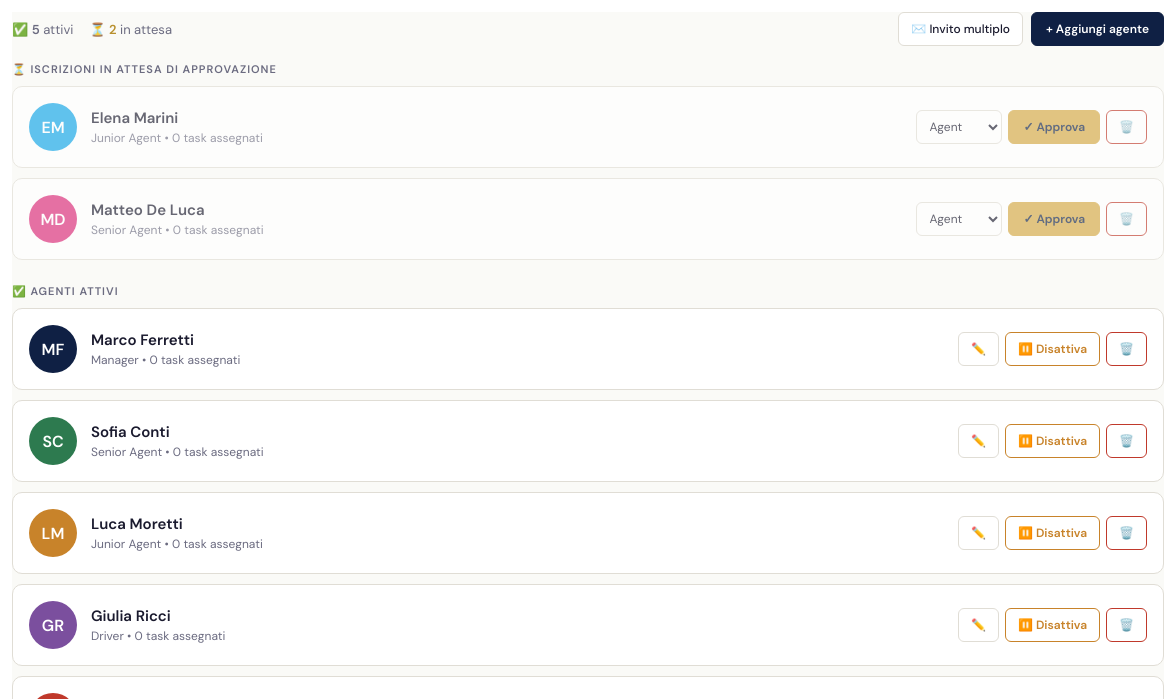
A-4 · AdminTeamTab — la revoca dei privilegi non si chiude alla cieca › cambio di ruolo rifiutato: l'editor resta aperto e lo DICE
This screenshot has width=1176, height=699.
Click the button titled "Modifica" in the row of "Marco Ferretti".
click(979, 349)  # box [958,332,999,366]
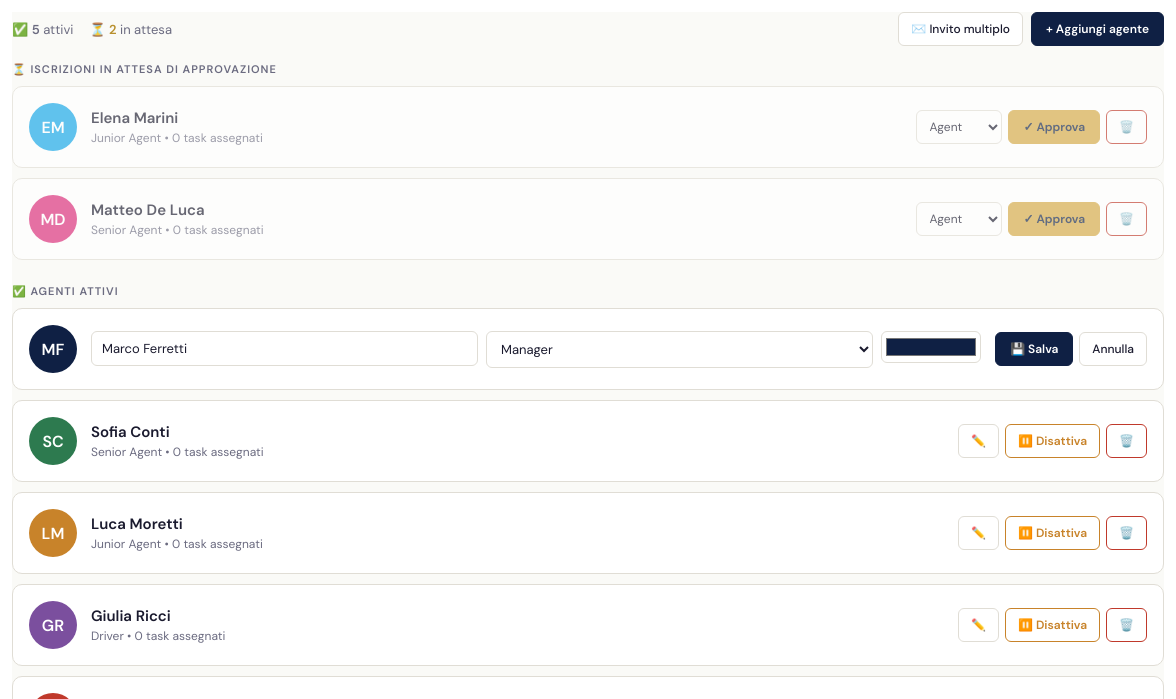
Select "Agent" in the dropdown named "Ruolo" at (680, 349), box [486,330,873,368]
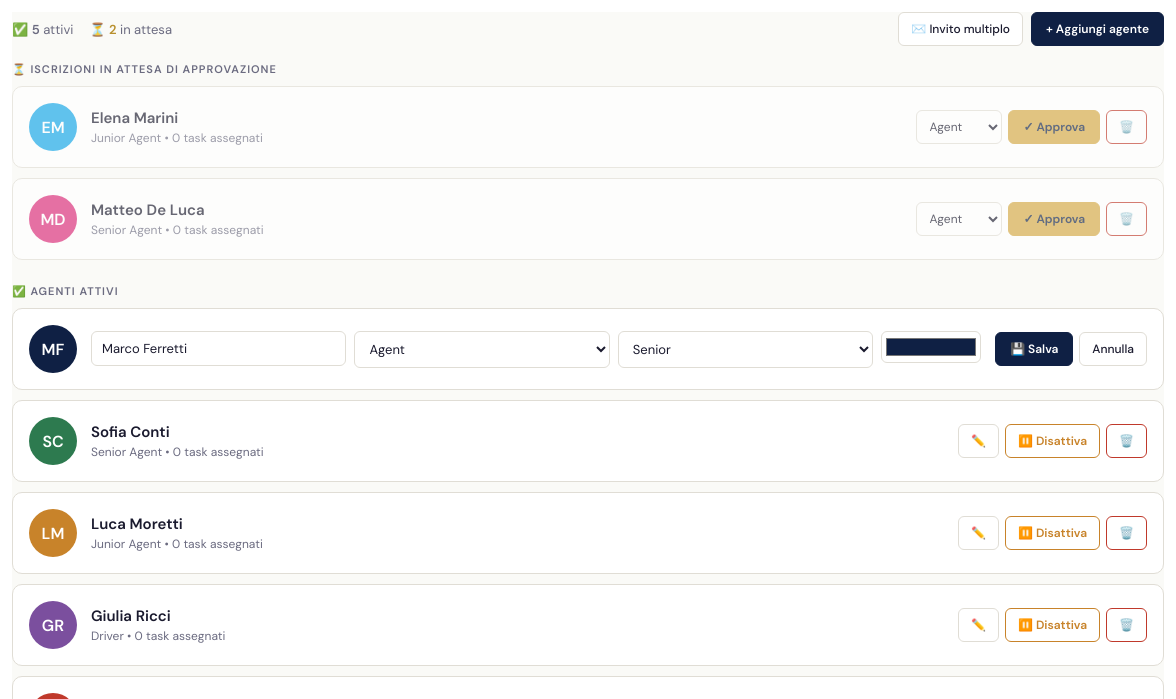
Click the button "💾 Salva".
click(1034, 349)  # box [995,332,1073,366]
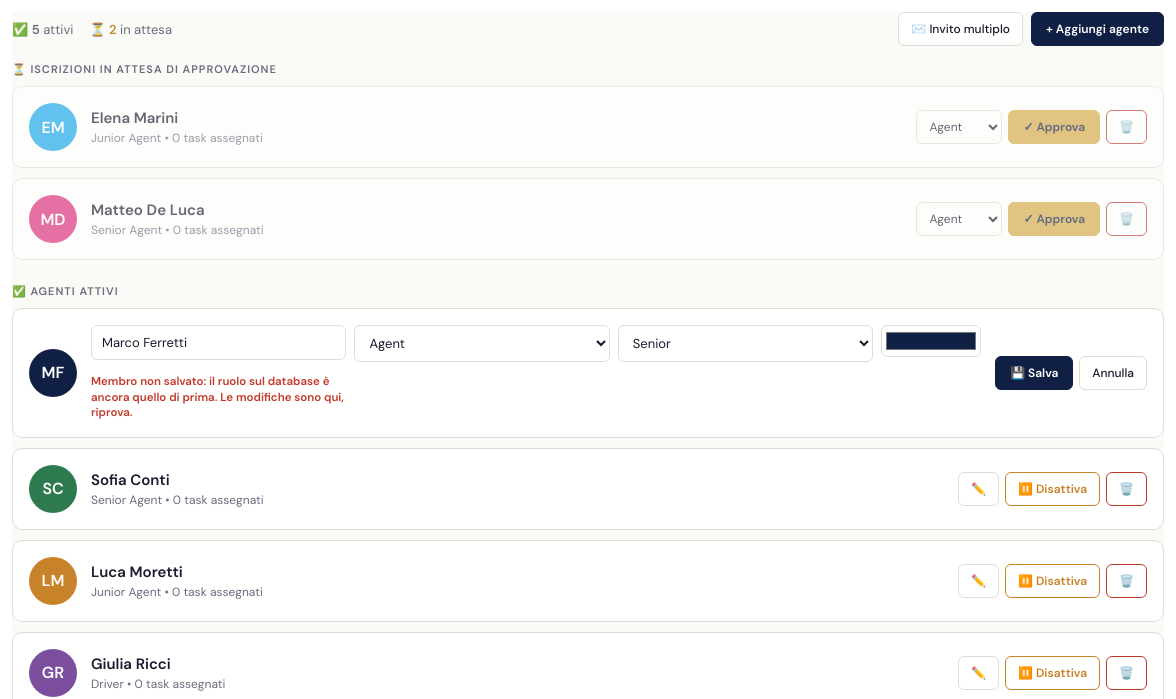
Check: the text "ruolo sul database è ancora quello di prima" is shown, box [91,374,344,420]
